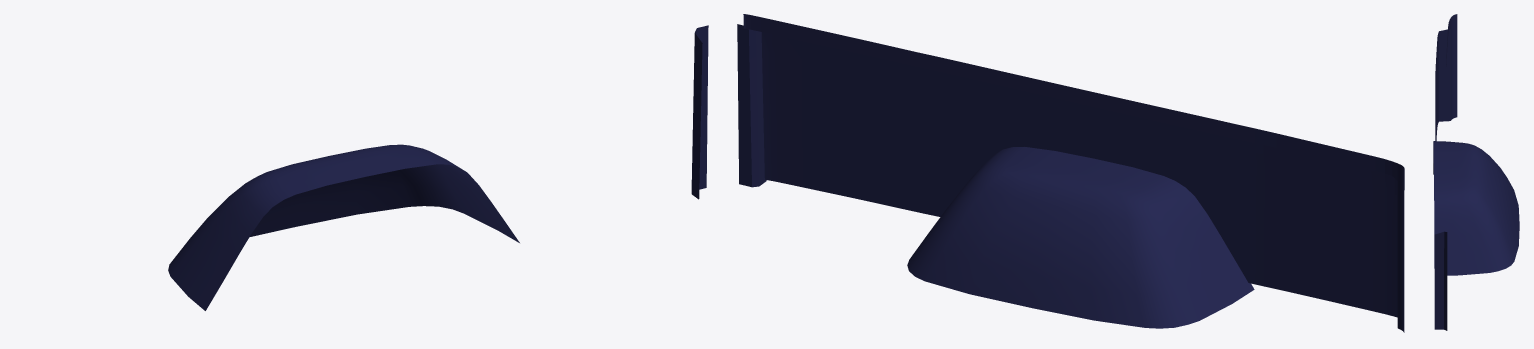
3 views of the same model, side by side, from view 1: azimuth 30°, elevation 25°; view 2: azimuth 150°, elevation 25°; view 3: azimuth 270°, elevation 25° (orthographic). The views are drawn at different scales.
Parts seen in each view (by area): view 1: U803_3A_38AZ_R_1_DaS_U803_3A_38AZ_R; view 2: U803_3A_38AZ_R_1_DaS_U803_3A_38AZ_R, U803_3A_38AZ_R_1_DaS_U803_3A_38AZ_R_E; view 3: U803_3A_38AZ_R_1_DaS_U803_3A_38AZ_R, U803_3A_38AZ_R_1_DaS_U803_3A_38AZ_R_E.
Part boxes in pixels (x1,y1,x2,y2): U803_3A_38AZ_R_1_DaS_U803_3A_38AZ_R: [168, 25, 708, 310]; U803_3A_38AZ_R_1_DaS_U803_3A_38AZ_R: [737, 14, 1404, 332]; U803_3A_38AZ_R_1_DaS_U803_3A_38AZ_R_E: [748, 29, 759, 187]; U803_3A_38AZ_R_1_DaS_U803_3A_38AZ_R: [1433, 14, 1519, 329]; U803_3A_38AZ_R_1_DaS_U803_3A_38AZ_R_E: [1439, 29, 1450, 330].
Bounding box in the file's own units: 181 × 47.5 × 32.13.
